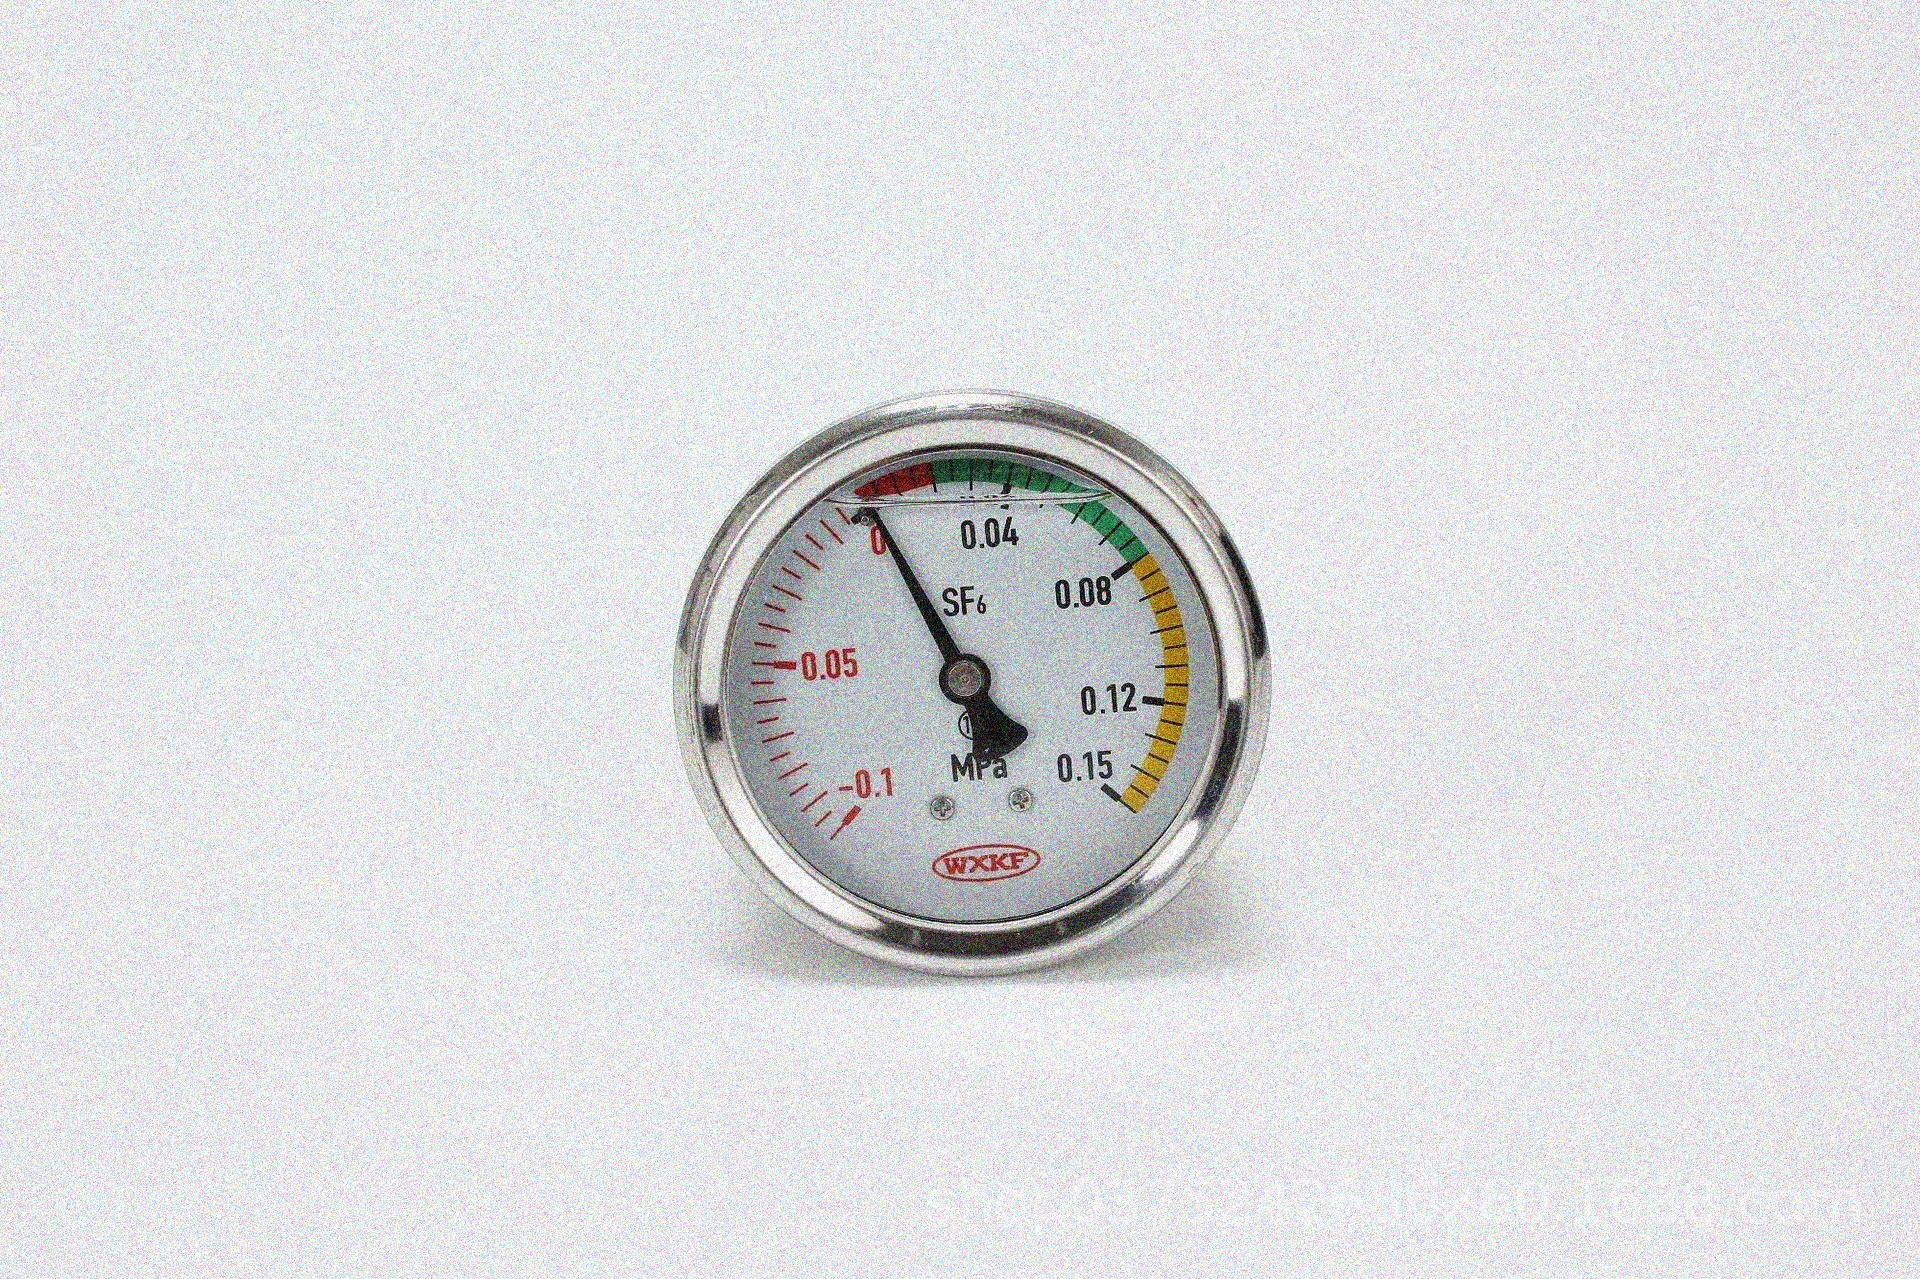pointer: (678, 395, 1250, 974)
